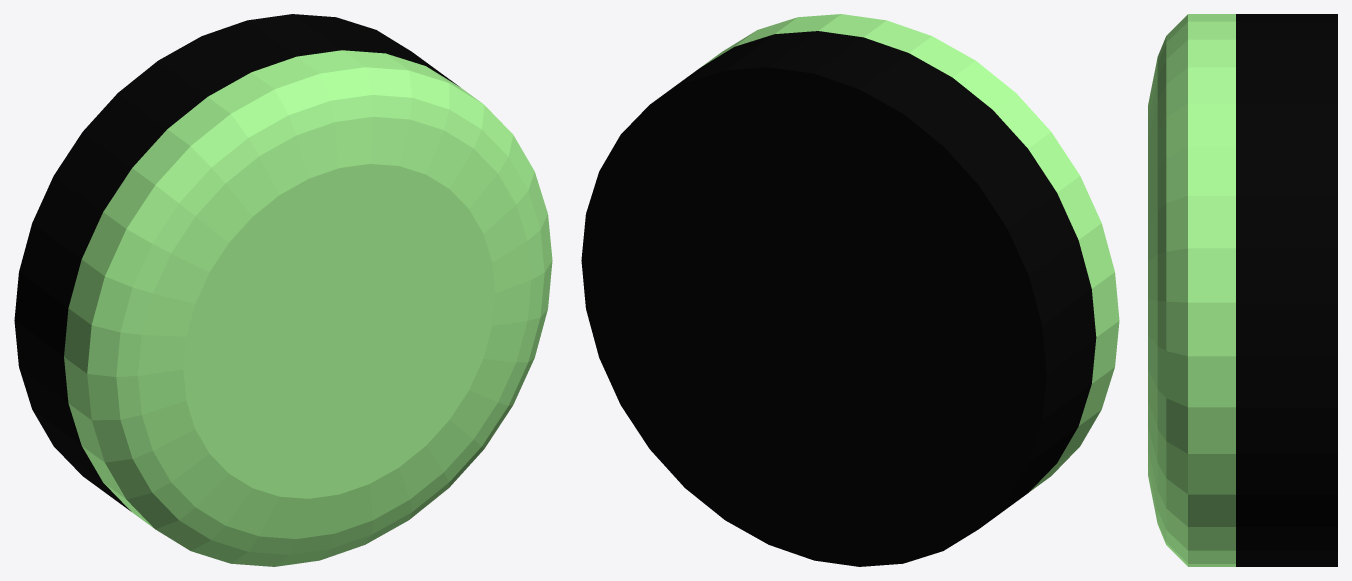
Rendered from greenAlarm.dae.
3 views of the same model, side by side, from view 1: azimuth 30°, elevation 25°; view 2: azimuth 150°, elevation 25°; view 3: azimuth 270°, elevation 25° (orthographic). The views are drawn at different scales.
Visible parts, largest first — view 1: Cylinder; view 2: Cylinder; view 3: Cylinder.
Part boxes in pixels (bbox=[...]): Cylinder: bbox=[14, 14, 552, 566]; Cylinder: bbox=[581, 14, 1119, 566]; Cylinder: bbox=[1148, 14, 1337, 566].
Size of the model in its own units: 0.1622 by 0.0557 by 0.1622.
